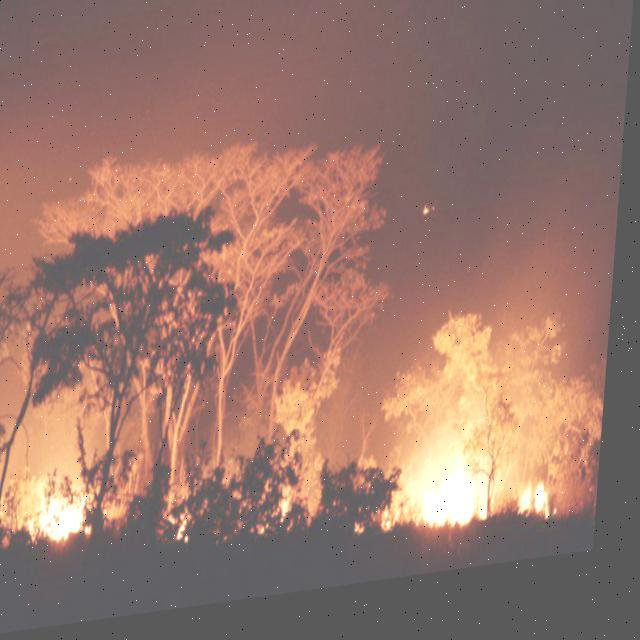Fire: (413, 432, 588, 561), (0, 471, 134, 565)
